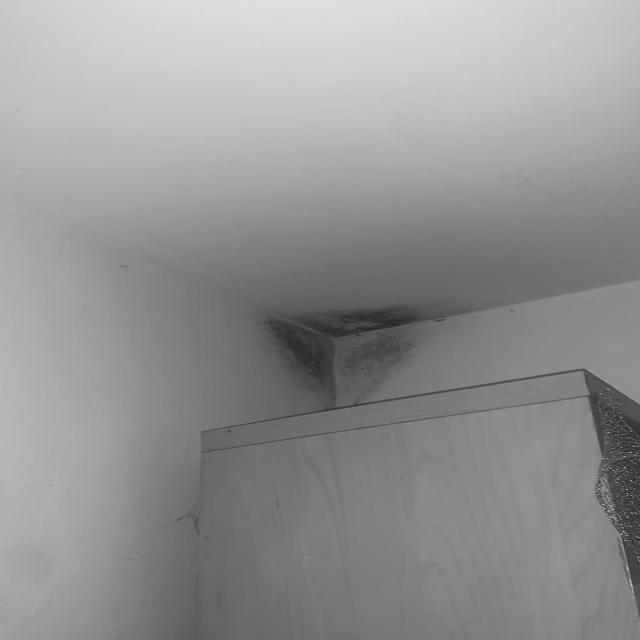stain marks: (247, 294, 423, 409), (107, 254, 137, 275)
